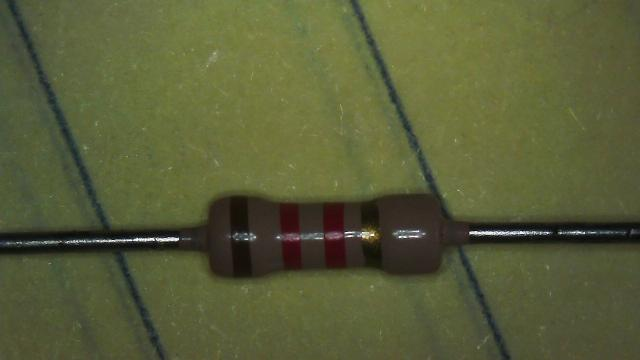brown: (231, 194, 248, 279)
gold: (361, 201, 381, 268)
red: (280, 202, 302, 270), (324, 202, 346, 268)
resistor: (186, 173, 472, 288)
